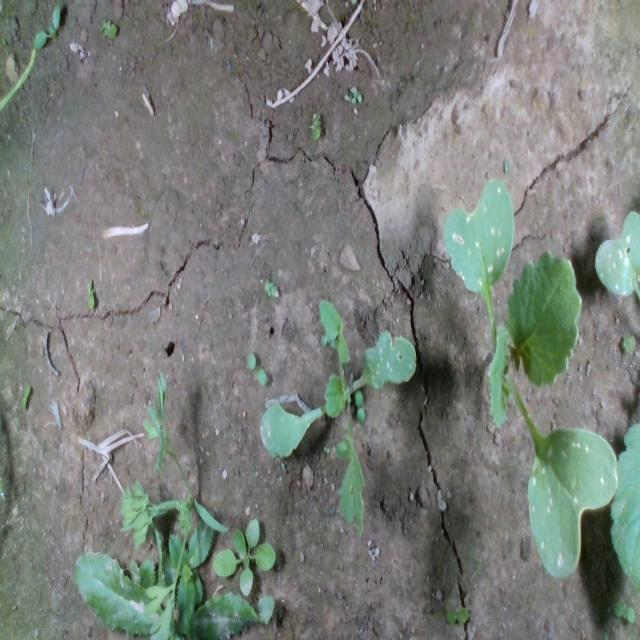weed: (245, 350, 269, 386), (611, 597, 636, 625), (444, 605, 469, 623), (99, 16, 118, 38), (354, 387, 365, 425), (262, 277, 280, 299), (311, 110, 321, 143), (85, 278, 95, 310), (21, 381, 31, 409)
